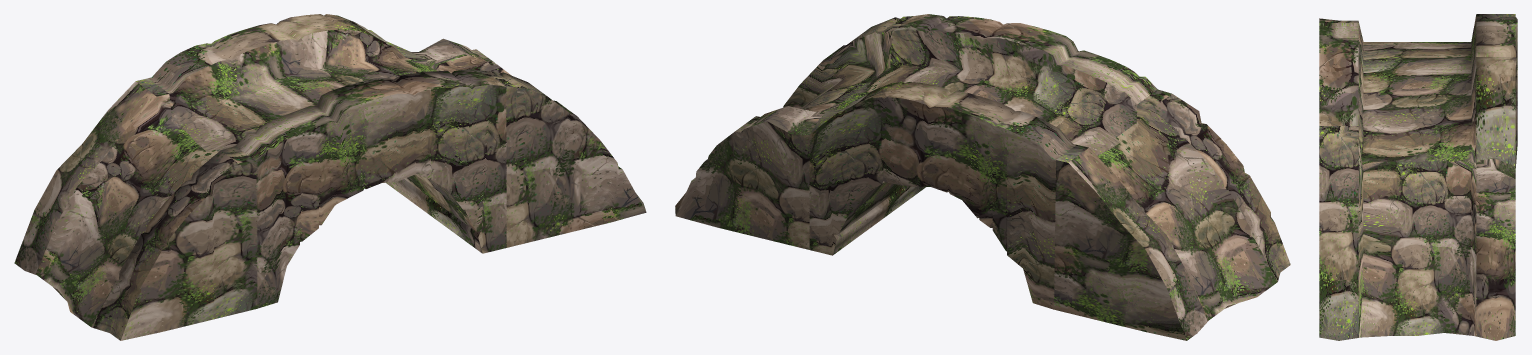
The model's file is bridge4.fbx.
The picture shows the model from 3 angles, left to right: view 1: azimuth 30°, elevation 25°; view 2: azimuth 150°, elevation 25°; view 3: azimuth 270°, elevation 25°; orthographic projection. The views are drawn at different scales.
Parts seen in each view (by area): view 1: bridge; view 2: bridge; view 3: bridge.
Part boxes in pixels (x1,y1,x2,y2): bridge: (14,14,646,340); bridge: (675,14,1290,340); bridge: (1319,14,1517,340).
Bounding box in the file's own units: 969 × 309 × 333.
Materials: 1 (1 with a texture image).
